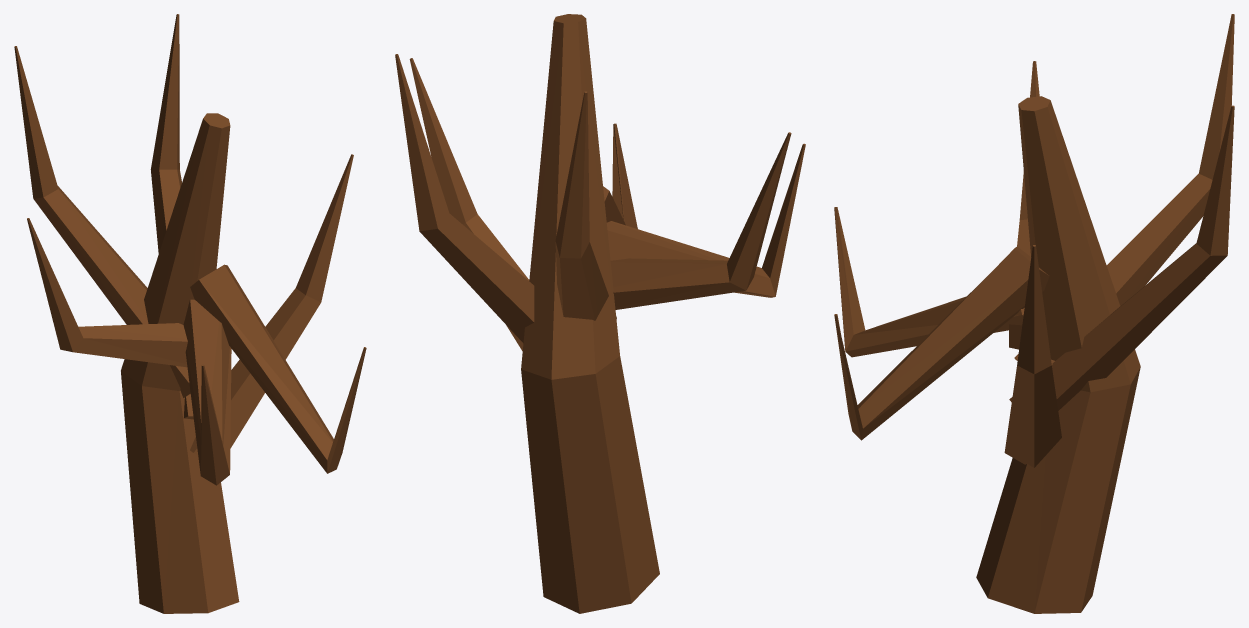
Rendered from dead_tree_a.fbx.
3 views of the same model, side by side, from view 1: azimuth 30°, elevation 25°; view 2: azimuth 150°, elevation 25°; view 3: azimuth 270°, elevation 25° (orthographic). The views are drawn at different scales.
Parts seen in each view (by area): view 1: dead_tree_a; view 2: dead_tree_a; view 3: dead_tree_a.
Boxes of the visible parts, box(x1,y1,x2,y2) form: dead_tree_a: box(14, 14, 366, 613); dead_tree_a: box(395, 14, 805, 613); dead_tree_a: box(834, 14, 1234, 613).
Bounding box in the file's own units: 4 × 6 × 4.
